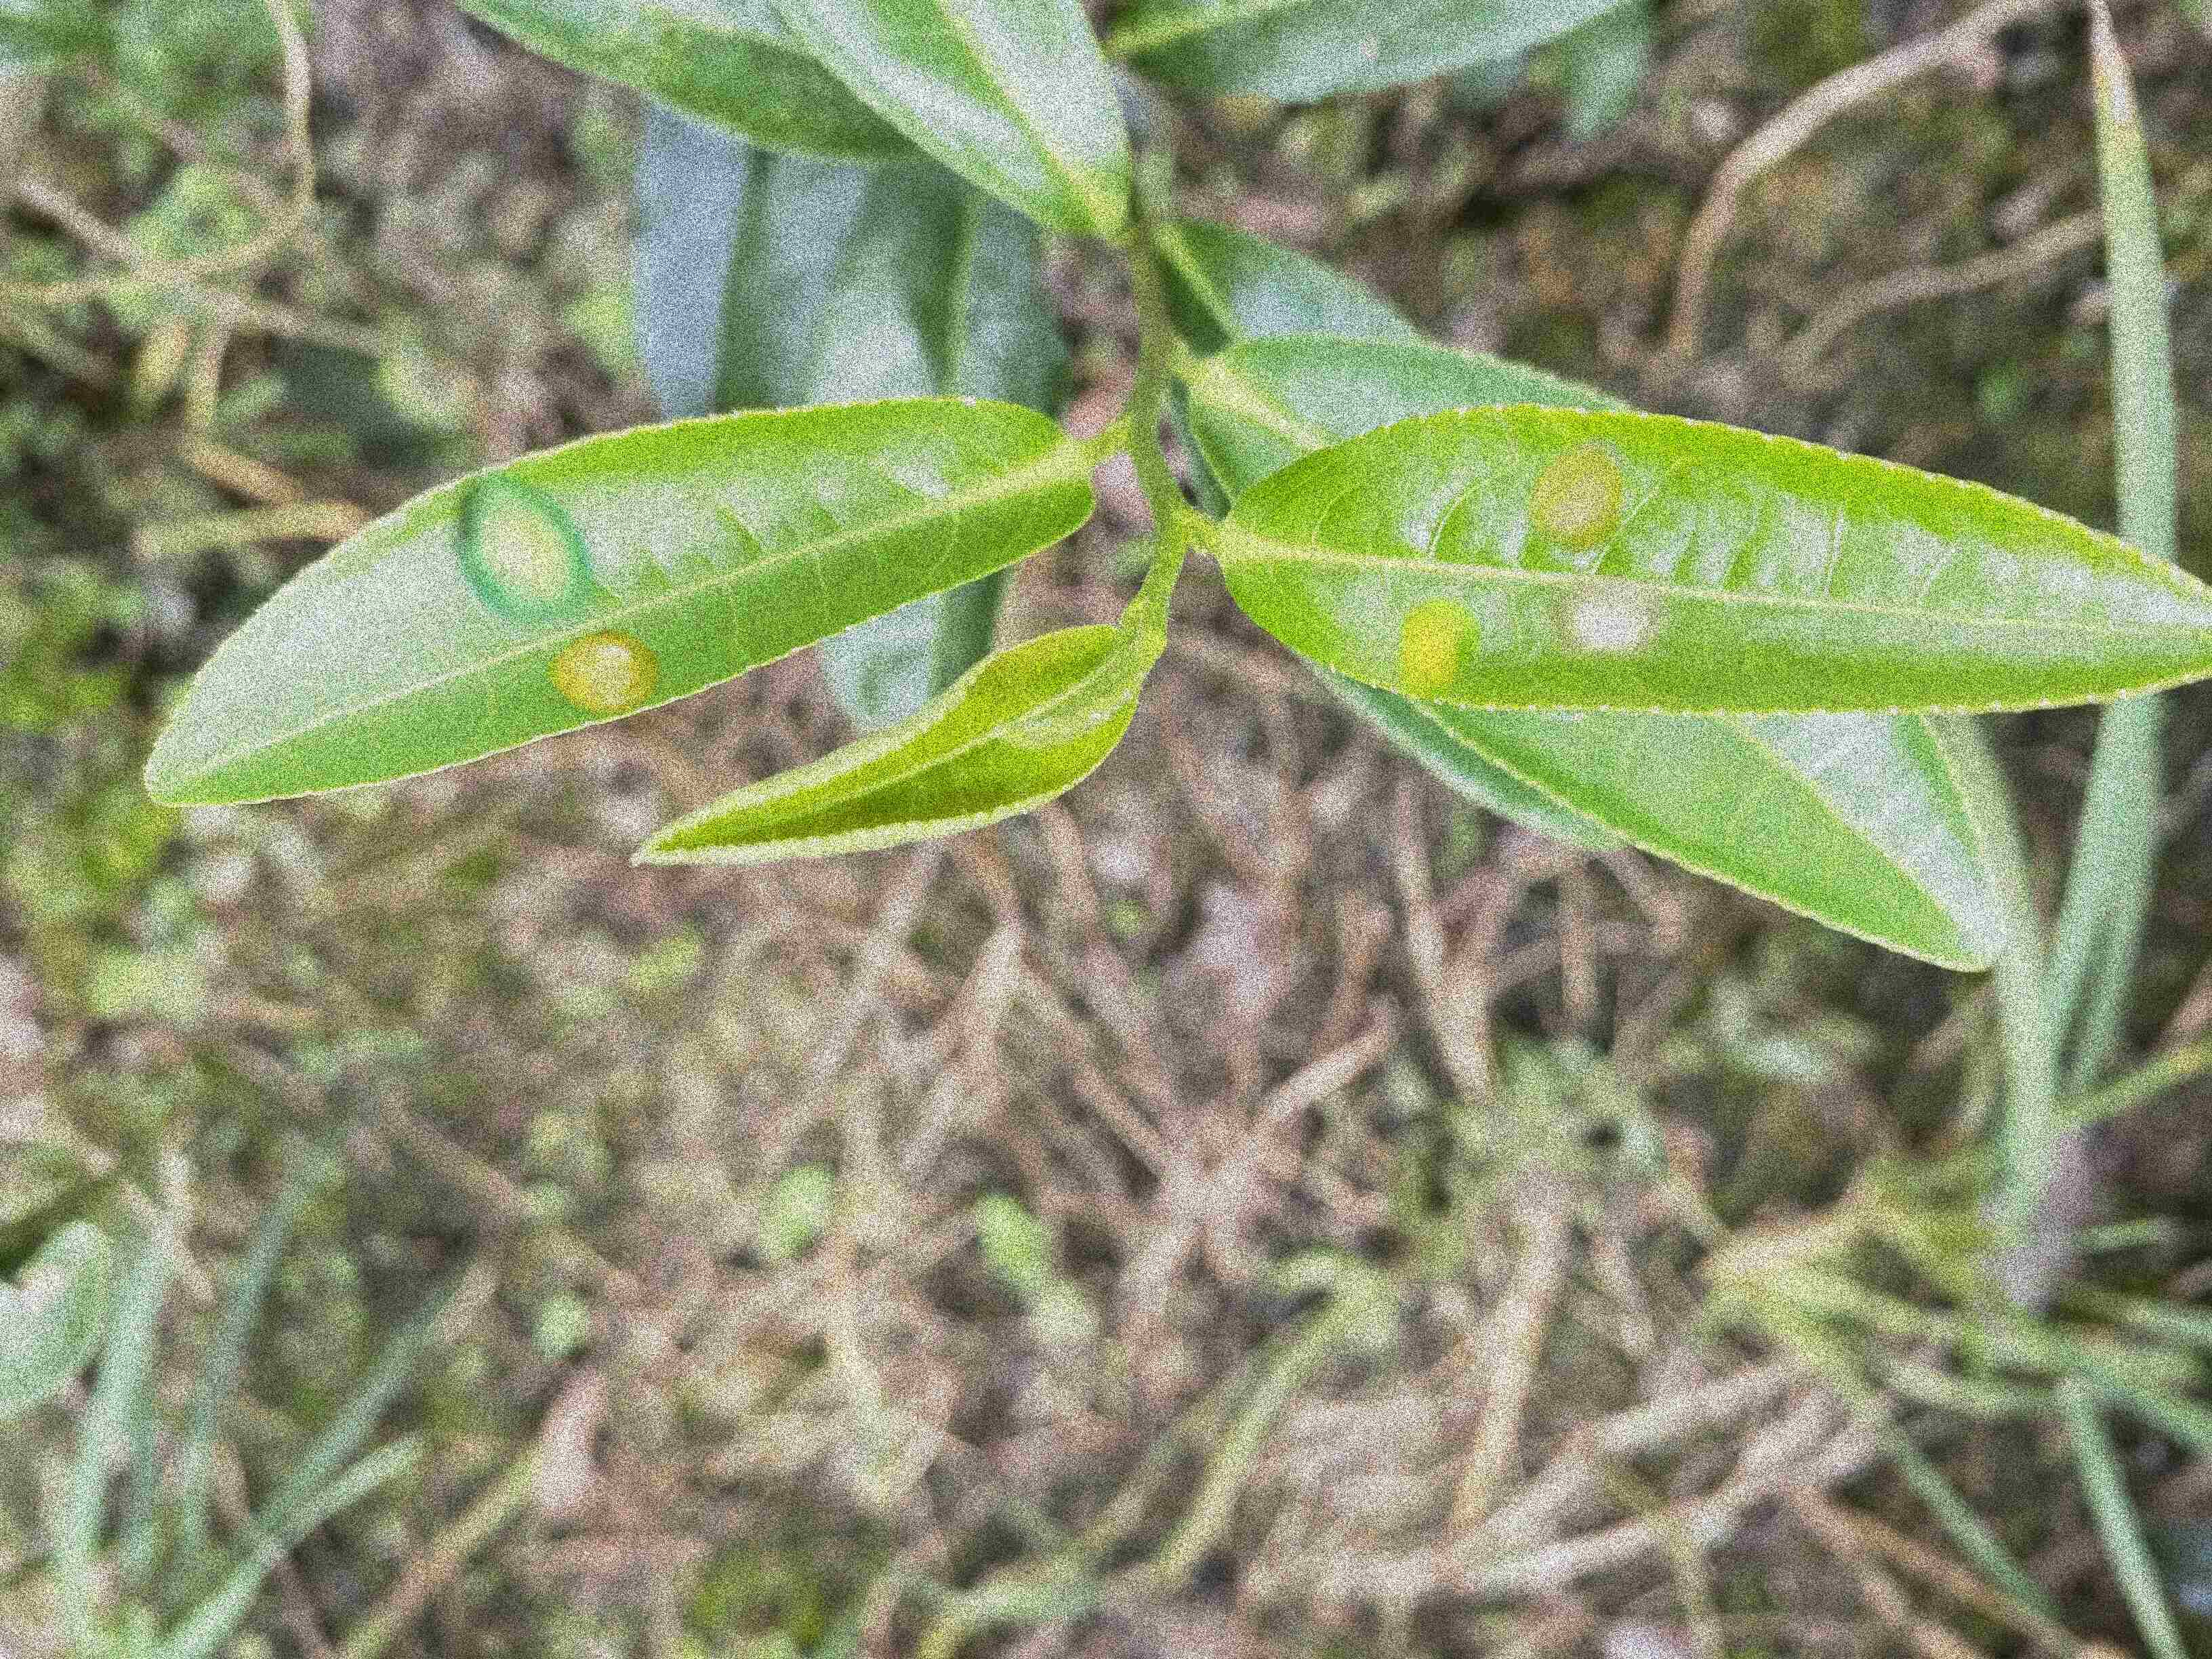chabing_high: (145, 396, 1096, 809), (1224, 399, 2210, 714)
healthy: (632, 626, 1136, 868)
